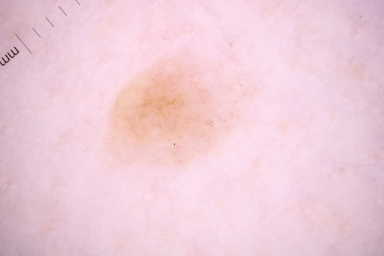melanoma: (109, 57, 246, 170)
